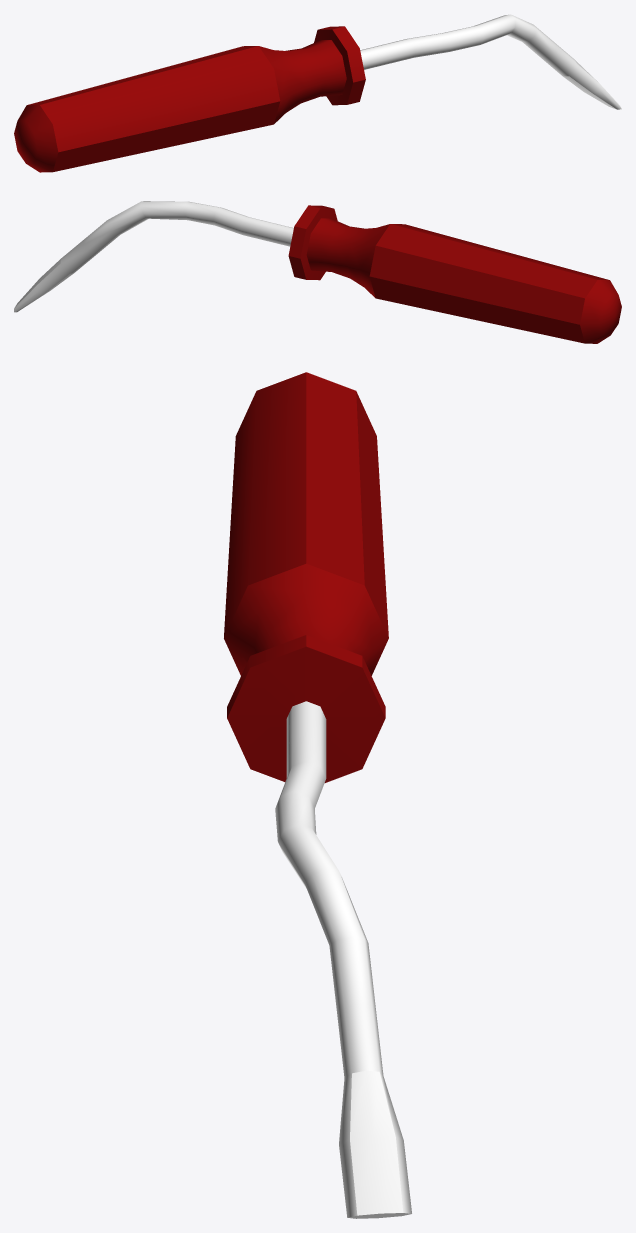
Rendered from Screwdriver Damaged.fbx.
3 renders of one model, top to bottom at view 1: azimuth 30°, elevation 25°; view 2: azimuth 150°, elevation 25°; view 3: azimuth 270°, elevation 25°, orthographic. The views are drawn at different scales.
Visible parts, largest first — view 1: pCylinder2; view 2: pCylinder2; view 3: pCylinder2.
Part boxes in pixels (box(x1,y1,x2,y2)): pCylinder2: box(14, 14, 621, 172); pCylinder2: box(14, 201, 621, 343); pCylinder2: box(224, 372, 411, 1218).
Size of the model in its own units: 29.69 by 7.65 by 4.17.
